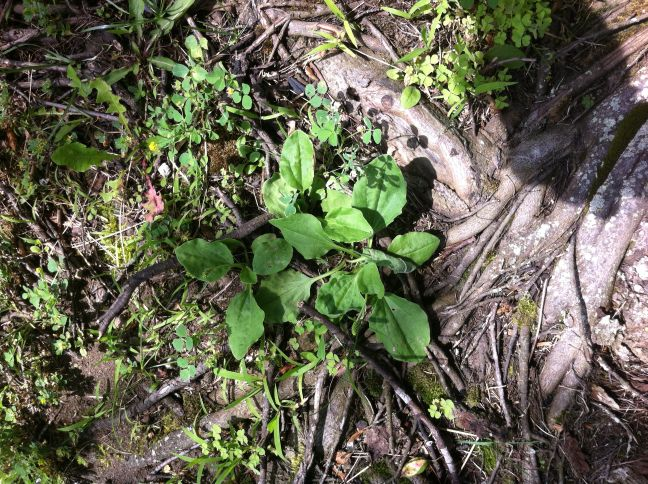weed1: (284, 150, 447, 370), (170, 234, 292, 368)
